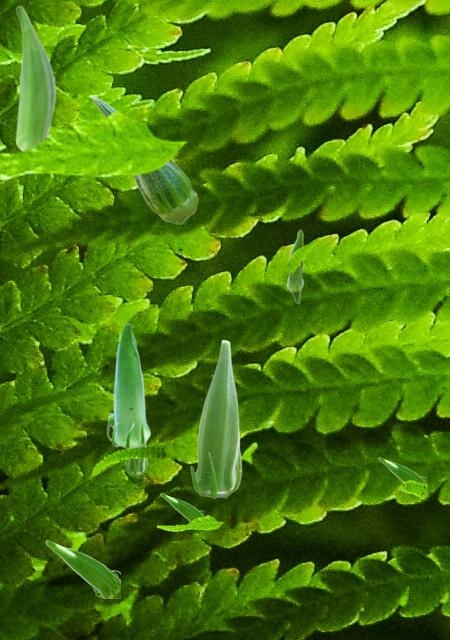okra: (91, 94, 197, 223), (190, 339, 241, 497), (15, 5, 55, 150), (106, 322, 150, 448), (45, 540, 119, 597), (286, 229, 303, 303), (160, 493, 203, 522), (378, 457, 425, 482), (125, 443, 146, 474)
